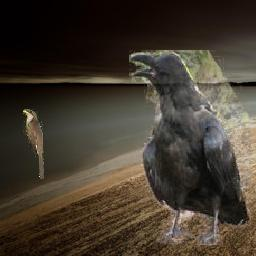Crow: (129, 51, 251, 246)
Cuckoo: (22, 109, 44, 179)
